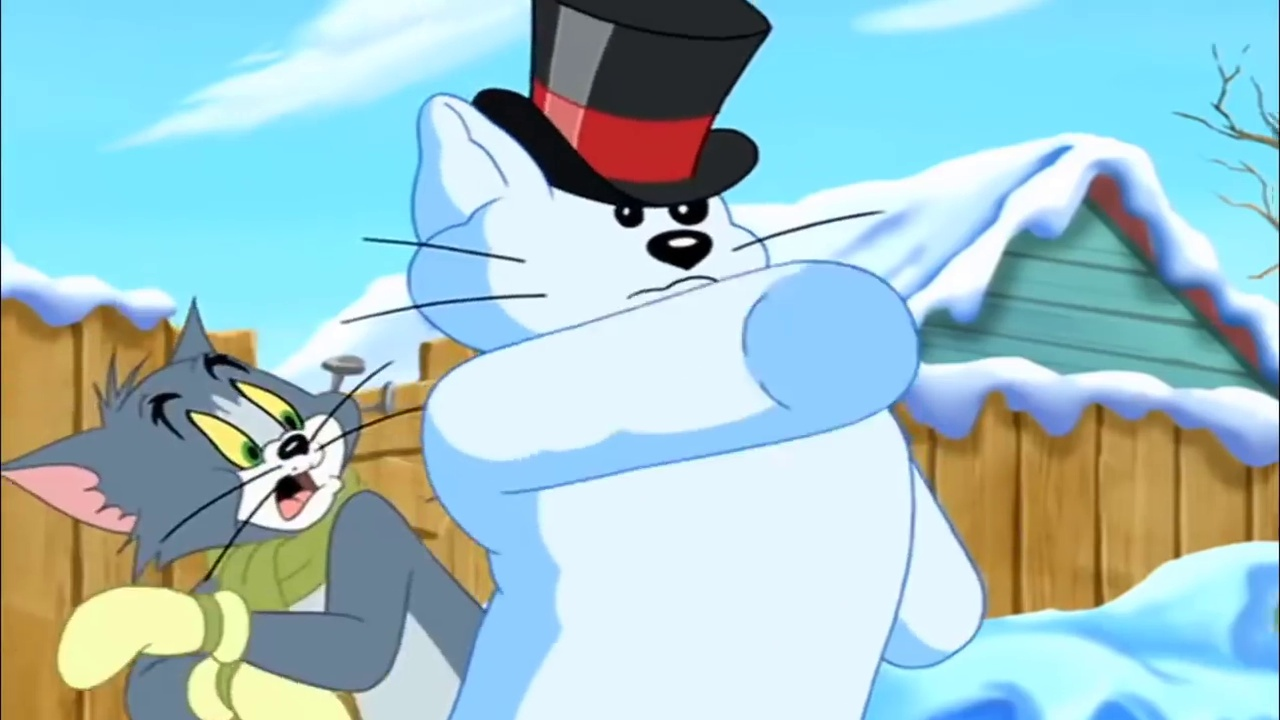face: (143, 352, 347, 534)
